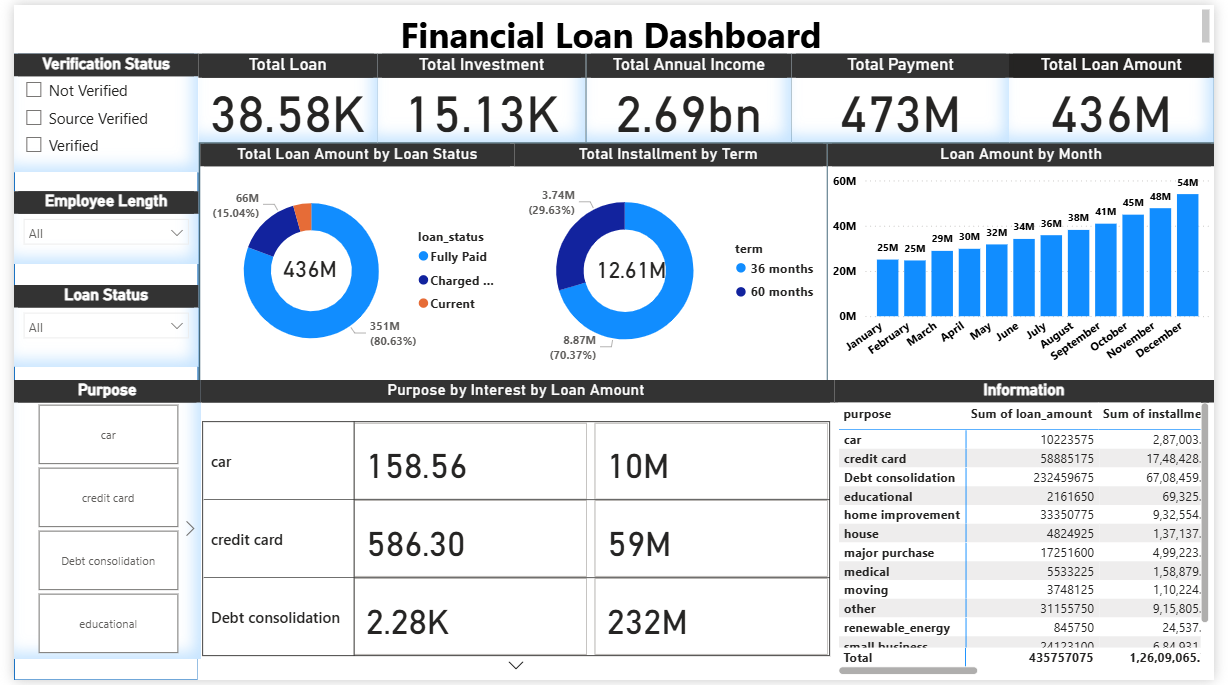

The page's visual inventory and layout, read from the dashboard file:
{"tool":"powerbi","page":{"name":"Financial Loan","canvas":[1280,720],"ordinal":0},"visuals":[{"type":"textbox","box":[0,0,1280,51.9],"z":0},{"type":"shape","box":[0,51.9,196.6,668.4],"z":1000},{"type":"card","title":"Total Loan","fields":{"Values":["Count(financial_loan (1).id)"]},"box":[196.6,51.9,191.8,94.1],"z":2000},{"type":"card","title":"Total Investment","fields":{"Values":["Count(financial_loan (1).installment)"]},"box":[388.5,51.9,222,94.1],"z":3000},{"type":"card","title":"Total Annual Income","fields":{"Values":["Sum(financial_loan (1).annual_income)"]},"box":[610.5,51.9,218.4,94.1],"z":4000},{"type":"card","title":"Total Payment","fields":{"Values":["Sum(financial_loan (1).total_payment)"]},"box":[828.8,51.9,232.8,94.1],"z":5000},{"type":"card","title":"Total Loan Amount","fields":{"Values":["Sum(financial_loan (1).loan_amount)"]},"box":[1061.7,51.9,218.4,94.1],"z":6000},{"type":"columnChart","title":"Loan Amount by Month","fields":{"Y":["Sum(financial_loan (1).loan_amount)"],"Category":["financial_loan (1).issue_date.Variation.Date Hierarchy.Month"]},"box":[867.4,148.4,412.6,252.1],"z":7000},{"type":"donutChart","title":"Total Loan Amount by Loan Status","fields":{"Y":["Sum(financial_loan (1).loan_amount)"],"Category":["financial_loan (1).loan_status"]},"box":[199.1,148.4,335.4,252],"z":8000,"group":"g1"},{"type":"pivotTable","title":"Information","fields":{"Rows":["financial_loan (1).purpose"],"Values":["Sum(financial_loan (1).loan_amount)","Sum(financial_loan (1).installment)","Sum(financial_loan (1).annual_income)","Sum(financial_loan (1).total_payment)","Min(financial_loan (1).term)"]},"box":[874.7,400.5,405.4,319.7],"z":8000},{"type":"card","fields":{"Values":["Sum(financial_loan (1).loan_amount)"]},"box":[275,250,82,63.9],"z":9000,"group":"g1"},{"type":"donutChart","title":"Total Installment by Term","fields":{"Y":["Sum(financial_loan (1).installment)"],"Category":["financial_loan (1).term"]},"box":[529.6,148.4,337.8,252.1],"z":9000},{"type":"slicer","title":"Employee Length","fields":{"Values":["financial_loan (1).emp_length"]},"box":[0,199.1,196.6,77.2],"z":9000},{"type":"slicer","title":"Verification Status","fields":{"Values":["financial_loan (1).verification_status"]},"box":[0,51.9,196.6,126.7],"z":10000},{"type":"card","fields":{"Values":["Sum(financial_loan (1).installment)"]},"box":[611.7,249.3,92.9,65.1],"z":10000},{"type":"slicer","title":"Loan Status","fields":{"Values":["financial_loan (1).loan_status"]},"box":[0,299.2,196.6,86.9],"z":11000},{"type":"slicer","title":"Purpose","fields":{"Values":["financial_loan (1).purpose"]},"box":[0,400.5,199.1,298],"z":12000},{"type":"cardVisual","title":"Purpose by Interest by Loan Amount","fields":{"Rows":["financial_loan (1).purpose"],"Data":["Sum(financial_loan (1).int_rate)","Sum(financial_loan (1).loan_amount)"]},"box":[196.6,400.5,679.2,319.7],"z":12000},{"type":"group","id":"g1","title":"Group 2","box":[199.1,148.4,335.4,252],"z":13000}]}

Visuals, with their boxes in screenshot pixels (x1, y1, x2, y2), scaled from the page's 1280x720 canvas onto the 1228x685 screenshot:
textbox: pyautogui.locateOnScreen(0, 0, 1227, 49)
shape: pyautogui.locateOnScreen(0, 49, 189, 684)
"Total Loan" card: pyautogui.locateOnScreen(189, 49, 373, 139)
"Total Investment" card: pyautogui.locateOnScreen(373, 49, 586, 139)
"Total Annual Income" card: pyautogui.locateOnScreen(586, 49, 795, 139)
"Total Payment" card: pyautogui.locateOnScreen(795, 49, 1018, 139)
"Total Loan Amount" card: pyautogui.locateOnScreen(1019, 49, 1227, 139)
"Loan Amount by Month" columnChart: pyautogui.locateOnScreen(832, 141, 1227, 381)
"Total Loan Amount by Loan Status" donutChart: pyautogui.locateOnScreen(191, 141, 513, 381)
"Information" pivotTable: pyautogui.locateOnScreen(839, 381, 1227, 684)
card - Sum(financial_loan (1).loan_amount): pyautogui.locateOnScreen(264, 238, 342, 299)
"Total Installment by Term" donutChart: pyautogui.locateOnScreen(508, 141, 832, 381)
"Employee Length" slicer: pyautogui.locateOnScreen(0, 189, 189, 263)
"Verification Status" slicer: pyautogui.locateOnScreen(0, 49, 189, 170)
card - Sum(financial_loan (1).installment): pyautogui.locateOnScreen(587, 237, 676, 299)
"Loan Status" slicer: pyautogui.locateOnScreen(0, 285, 189, 367)
"Purpose" slicer: pyautogui.locateOnScreen(0, 381, 191, 665)
"Purpose by Interest by Loan Amount" cardVisual: pyautogui.locateOnScreen(189, 381, 840, 684)
"Group 2" group: pyautogui.locateOnScreen(191, 141, 513, 381)
